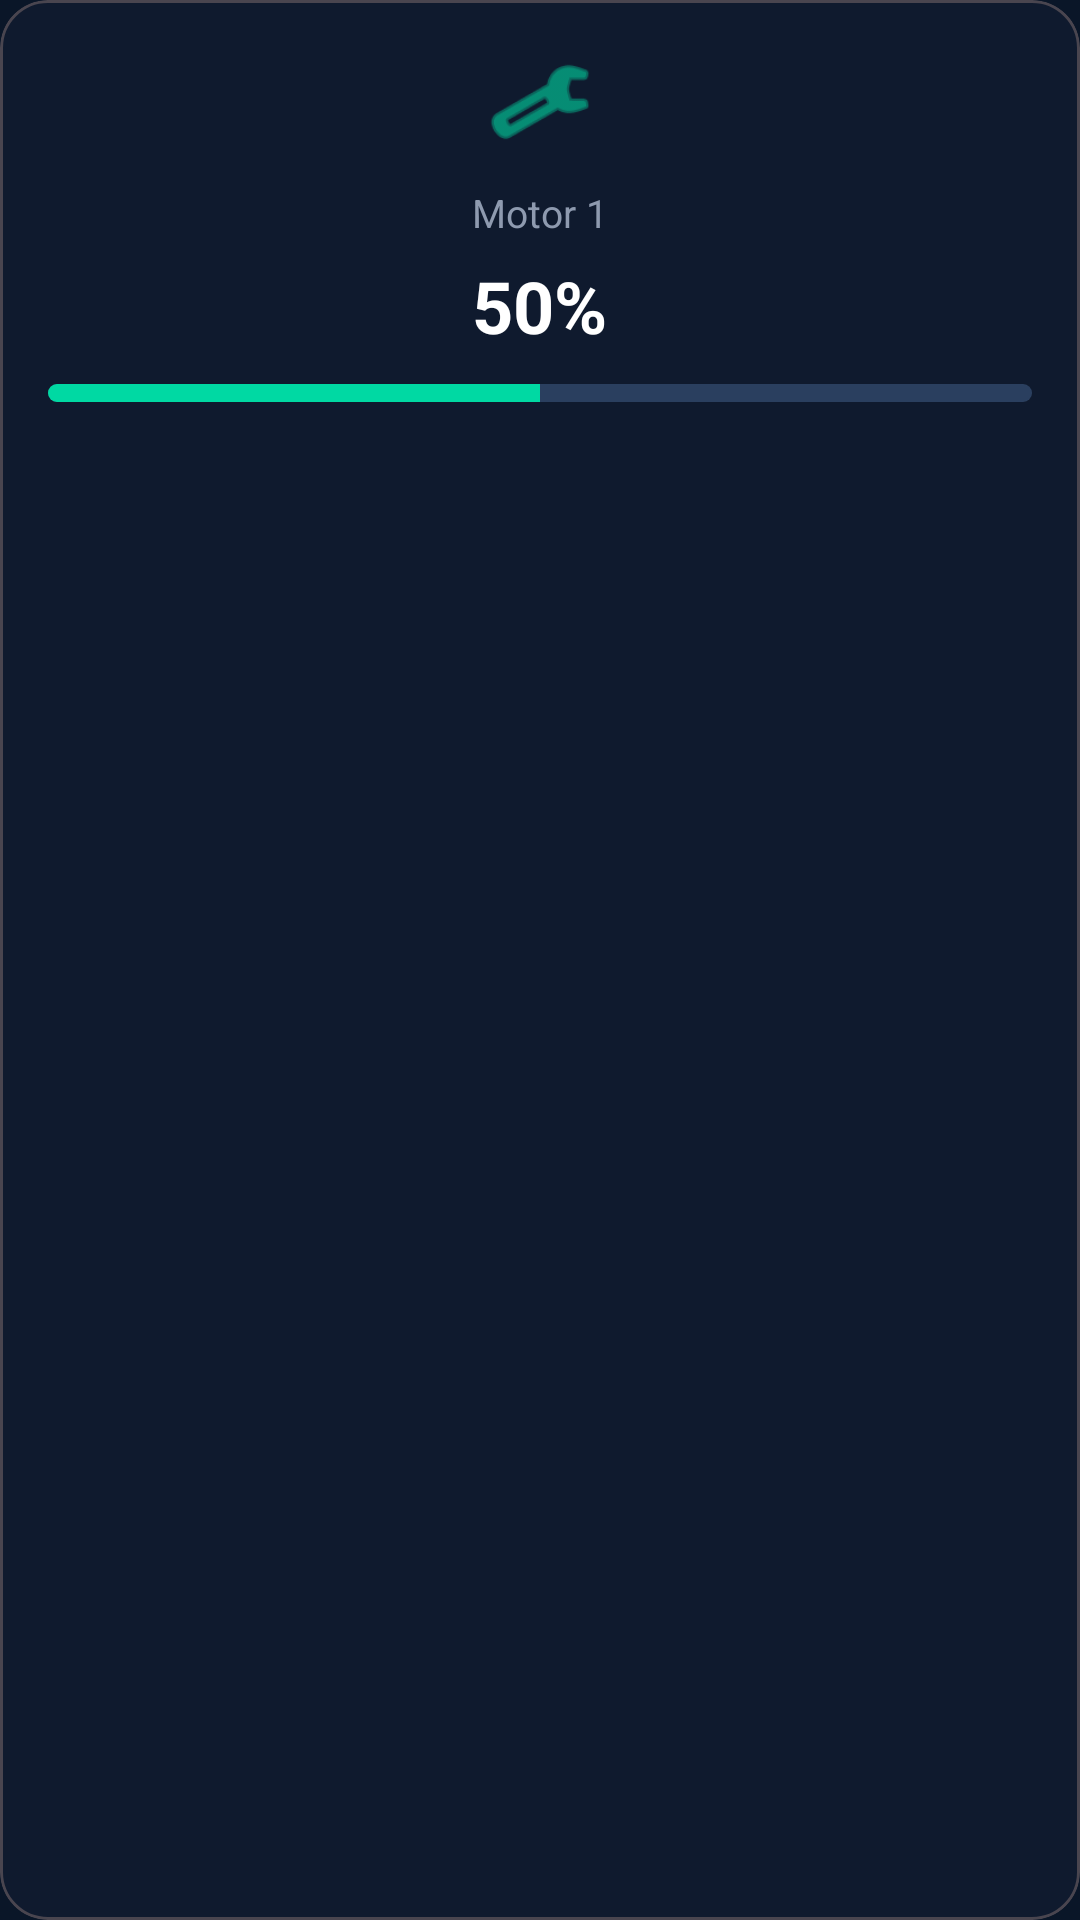

Named icons in this screenshot (1080x1920) and their centers, [x,y]:
manage: [540,102]
